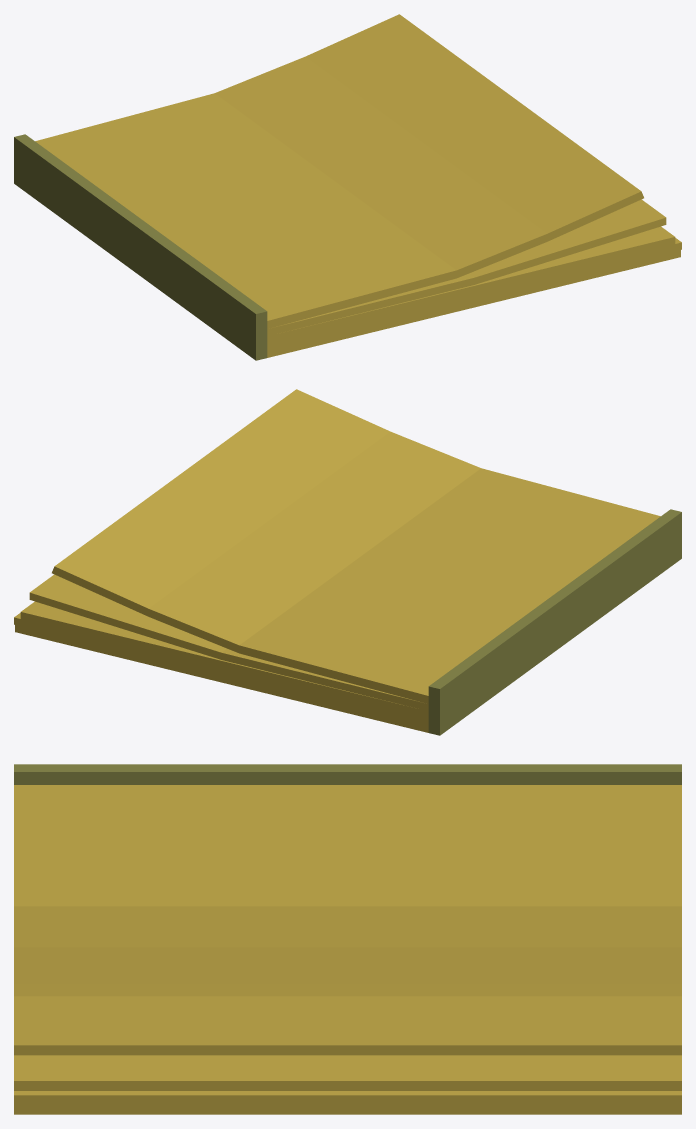
Rendered from Postit Notes.fbx.
The picture shows the model from 3 angles, top to bottom: view 1: azimuth 30°, elevation 25°; view 2: azimuth 150°, elevation 25°; view 3: azimuth 270°, elevation 25°; orthographic projection. The views are drawn at different scales.
Visible parts, largest first — view 1: Cube; view 2: Cube; view 3: Cube.
Boxes of the visible parts, <box> form: Cube: <box>14,14,681,360</box>; Cube: <box>14,389,681,735</box>; Cube: <box>14,764,681,1114</box>.
Bounding box in the file's own units: 203 × 34.38 × 200.
